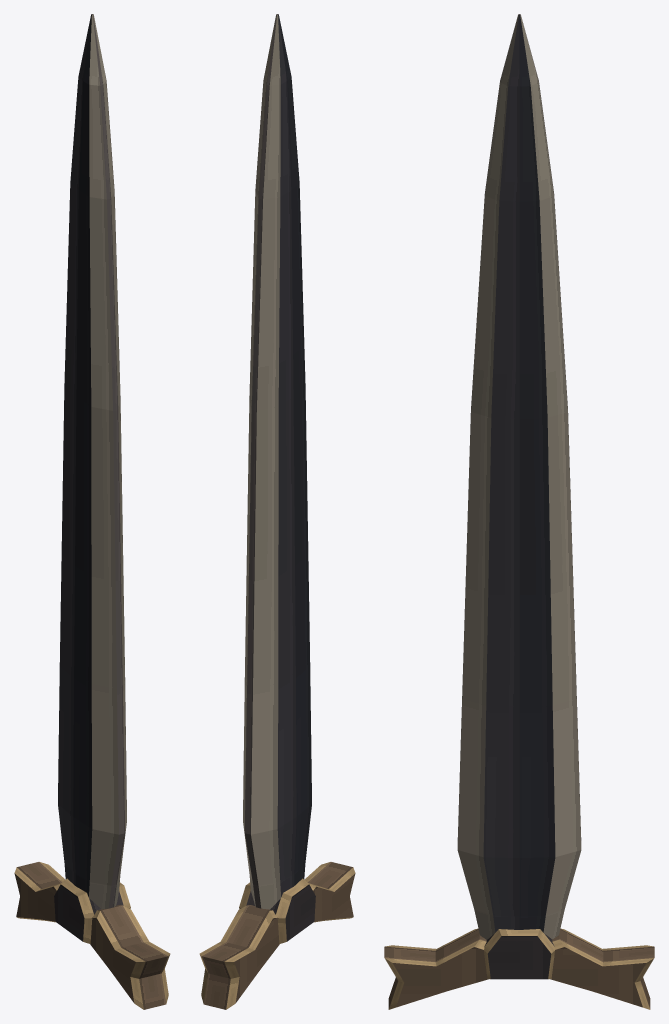
The model's file is workpiece_guiyan_sword_ground.obj.
3 renders of one model, left to right at view 1: azimuth 30°, elevation 25°; view 2: azimuth 150°, elevation 25°; view 3: azimuth 270°, elevation 25°, orthographic. The views are drawn at different scales.
Visible parts, largest first — view 1: geometry; view 2: geometry; view 3: geometry.
Part boxes in pixels (x1=…): geometry: x1=14, y1=14, x2=170, y2=1009; geometry: x1=199, y1=14, x2=355, y2=1009; geometry: x1=384, y1=14, x2=654, y2=1009.
Size of the model in its own units: 0.0756 by 1.48 by 0.365.
